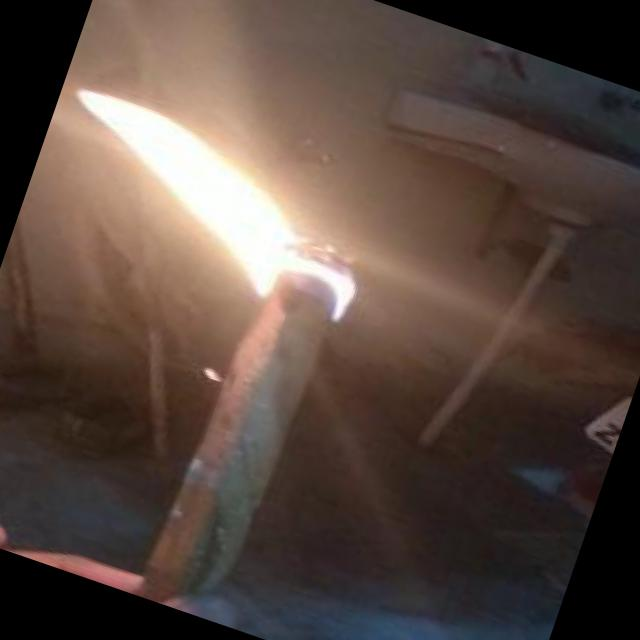fire: (18, 47, 398, 328)
